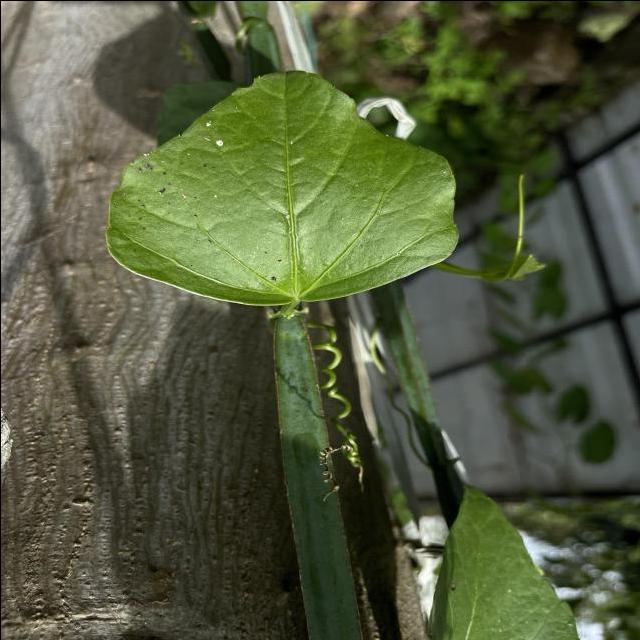Cissus quadrangularis: (100, 65, 462, 308)
